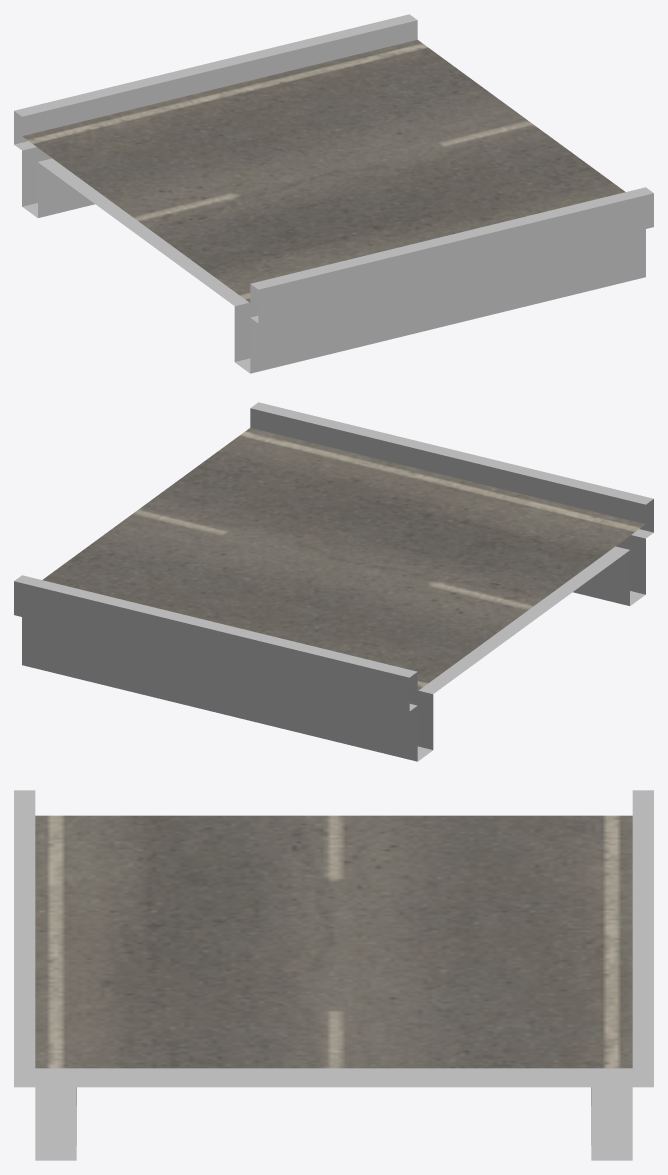
The model's file is Urban_Road4BridgeSegmentNoSides_Model.fbx.
3 renders of one model, top to bottom at view 1: azimuth 30°, elevation 25°; view 2: azimuth 150°, elevation 25°; view 3: azimuth 270°, elevation 25°, orthographic. The views are drawn at different scales.
Visible parts, largest first — view 1: Urban_Road4BridgeSegmentNoSides_Mesh; view 2: Urban_Road4BridgeSegmentNoSides_Mesh; view 3: Urban_Road4BridgeSegmentNoSides_Mesh.
Boxes of the visible parts, x1=… form: Urban_Road4BridgeSegmentNoSides_Mesh: x1=14, y1=14, x2=653, y2=373; Urban_Road4BridgeSegmentNoSides_Mesh: x1=14, y1=402, x2=653, y2=761; Urban_Road4BridgeSegmentNoSides_Mesh: x1=14, y1=790, x2=653, y2=1160.
Bounding box in the file's own units: 16 × 3.48 × 17.13.
